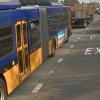Bus: (3, 3, 75, 84)
